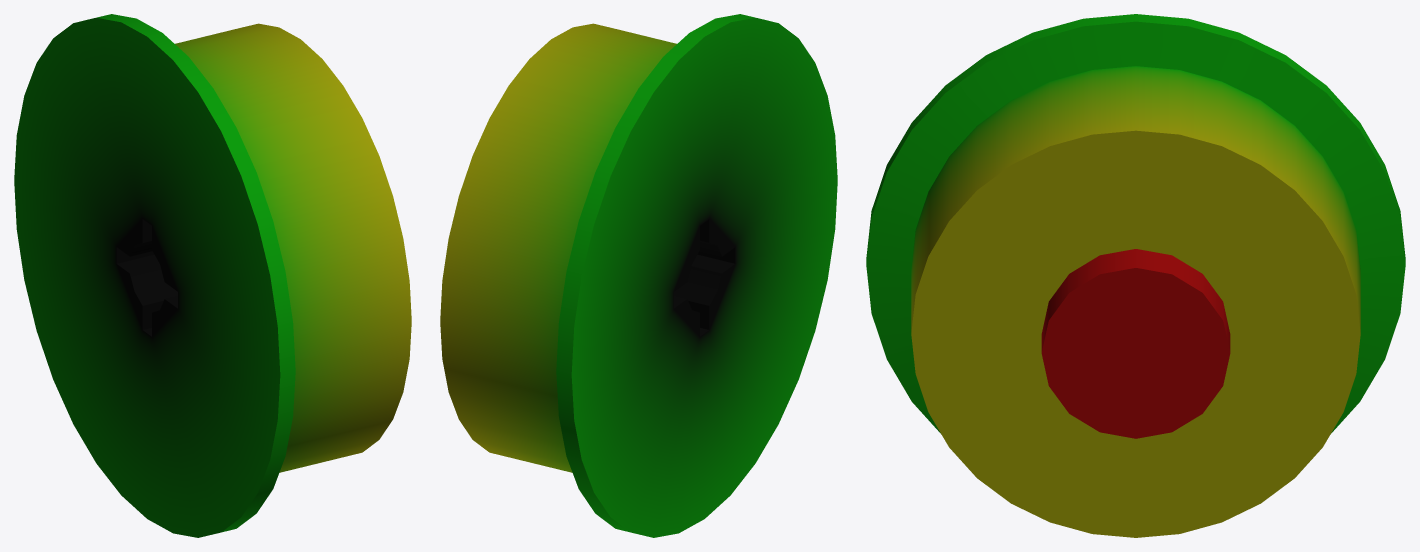
Rendered from SM_TrainWheel_2x2s.gltf.
3 renders of one model, left to right at view 1: azimuth 30°, elevation 25°; view 2: azimuth 150°, elevation 25°; view 3: azimuth 270°, elevation 25°, orthographic.
Visible parts, largest first — view 1: SM_TrainWheel_2x2s; view 2: SM_TrainWheel_2x2s; view 3: SM_TrainWheel_2x2s.
Boxes of the visible parts, x1=… form: SM_TrainWheel_2x2s: x1=14, y1=14, x2=411, y2=537; SM_TrainWheel_2x2s: x1=440, y1=14, x2=837, y2=537; SM_TrainWheel_2x2s: x1=866, y1=14, x2=1405, y2=537.
Size of the model in its own units: 0.25 by 0.6 by 0.6.
